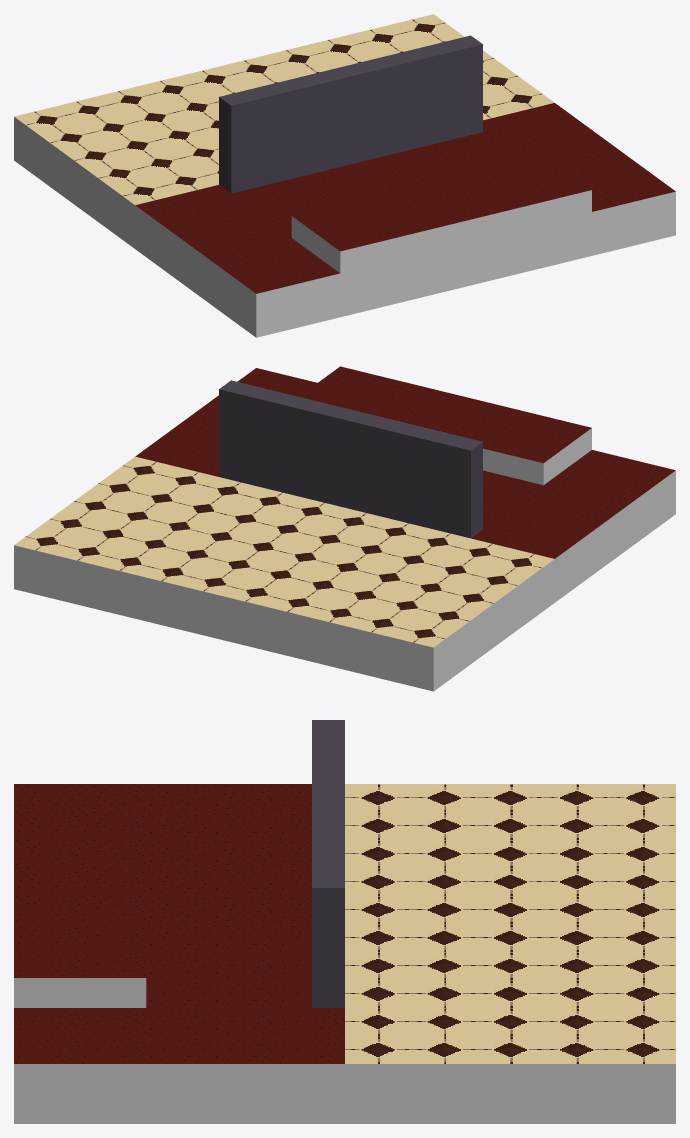
File: Aether Map 1.gltf
3 views of the same model, one above another, from view 1: azimuth 30°, elevation 25°; view 2: azimuth 150°, elevation 25°; view 3: azimuth 270°, elevation 25° (orthographic). The views are drawn at different scales.
Visible parts, largest first — view 1: Living Room Block, Kitchen Block, Wall; view 2: Kitchen Block, Living Room Block, Wall; view 3: Kitchen Block, Living Room Block, Wall.
Part boxes in pixels (left/top/right/bottom): Living Room Block: left=135, top=103, right=675, bottom=337; Kitchen Block: left=14, top=14, right=554, bottom=248; Wall: left=219, top=35, right=482, bottom=193; Kitchen Block: left=14, top=456, right=554, bottom=691; Living Room Block: left=135, top=366, right=675, bottom=602; Wall: left=219, top=380, right=482, bottom=538; Kitchen Block: left=345, top=784, right=675, bottom=1123; Living Room Block: left=14, top=784, right=344, bottom=1123; Wall: left=312, top=720, right=344, bottom=1007.
Bounding box in the file's own units: 10 × 3 × 10.
4 materials, 2 textured.
